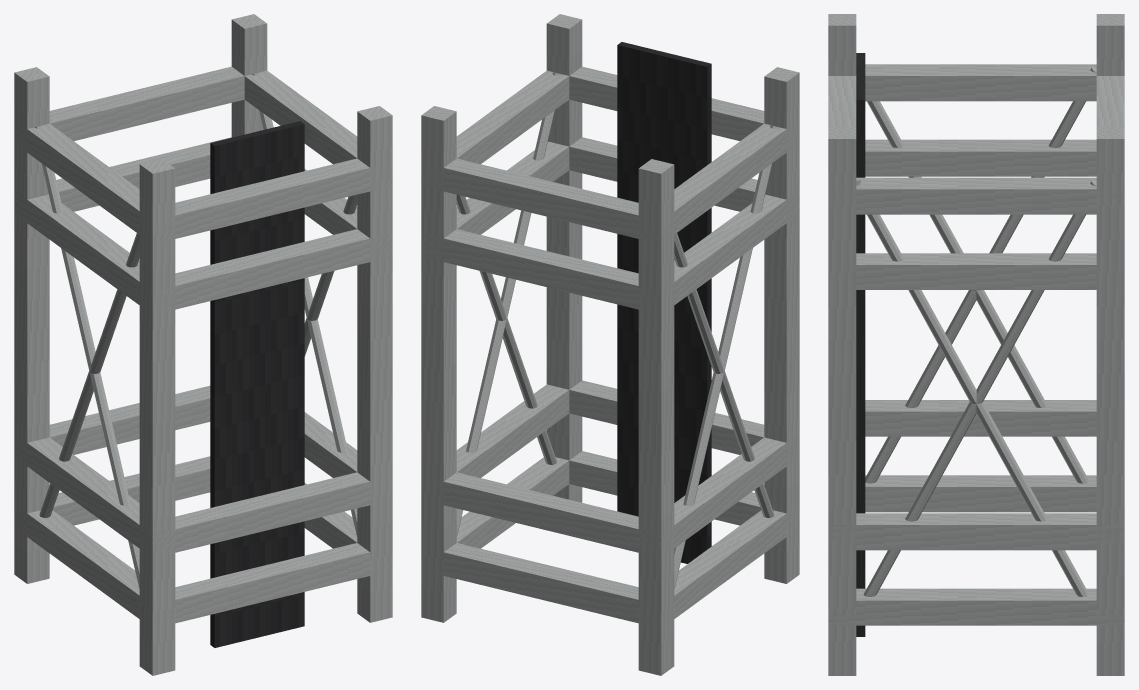
Rendered from mount_ladwp_3.obj.
The picture shows the model from 3 angles, left to right: view 1: azimuth 30°, elevation 25°; view 2: azimuth 150°, elevation 25°; view 3: azimuth 270°, elevation 25°; orthographic projection. The views are drawn at different scales.
Visible parts, largest first — view 1: transformer_bank_mount_ladwp_3; view 2: transformer_bank_mount_ladwp_3; view 3: transformer_bank_mount_ladwp_3.
Boxes of the visible parts, left/top/right/bottom form: transformer_bank_mount_ladwp_3: left=14, top=14, right=392, bottom=675; transformer_bank_mount_ladwp_3: left=421, top=14, right=799, bottom=675; transformer_bank_mount_ladwp_3: left=828, top=14, right=1124, bottom=675.
Bounding box in the file's own units: 1 × 2 × 1.
